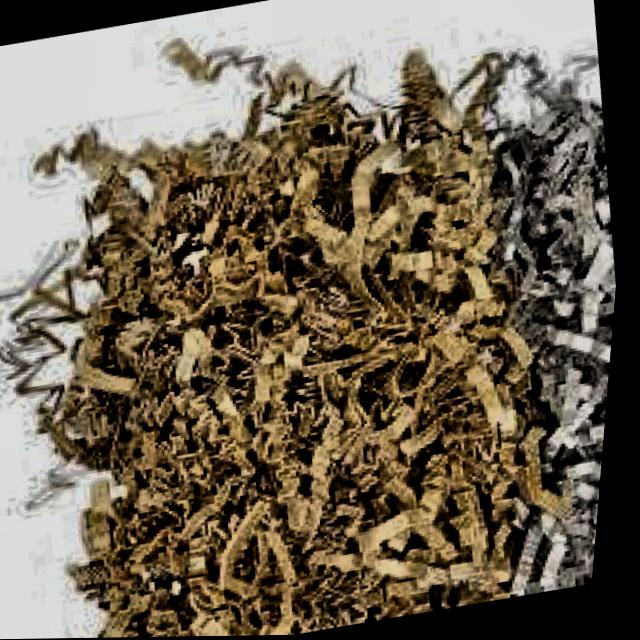Paper: (0, 0, 640, 640), (0, 0, 601, 640), (455, 57, 636, 594)
